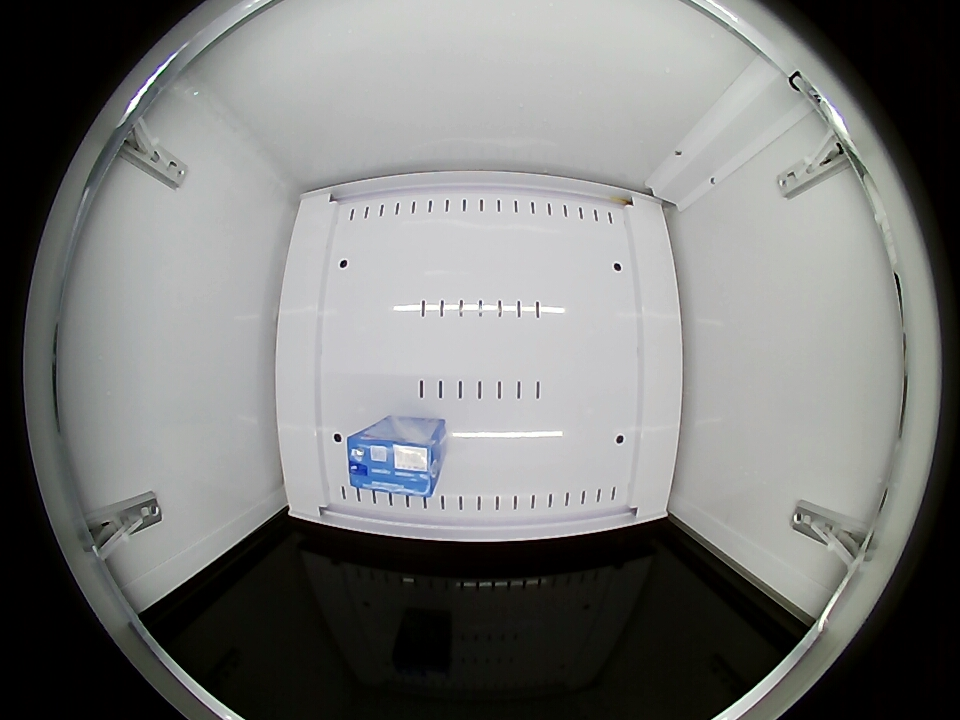weitanai: (346, 424, 444, 499)
